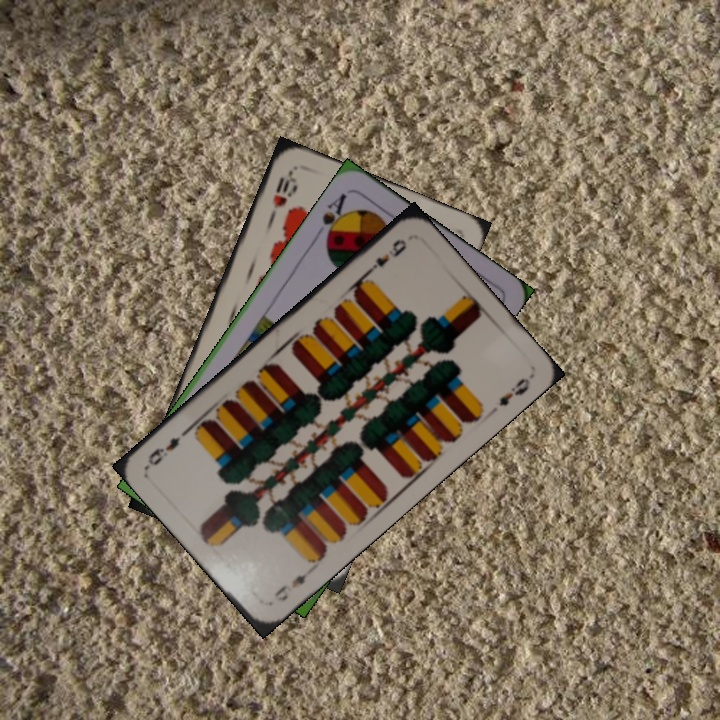E9: (362, 235, 410, 278), (269, 564, 316, 604)
H10: (264, 167, 299, 224)
SA: (318, 188, 352, 246)
